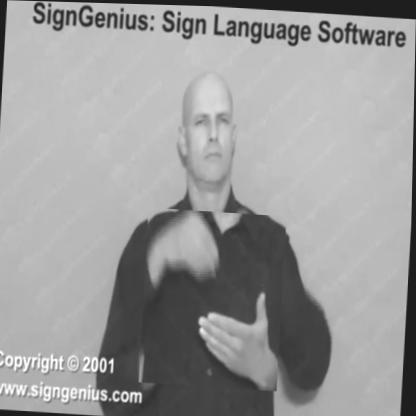Expensive: (140, 206, 287, 390)
